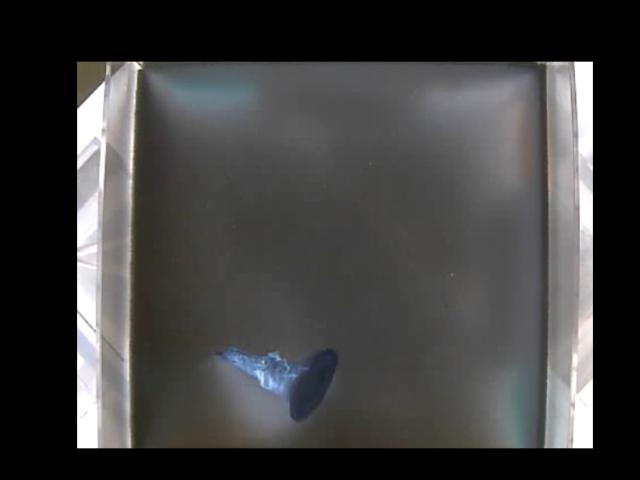Mooli: (216, 346, 337, 425)
